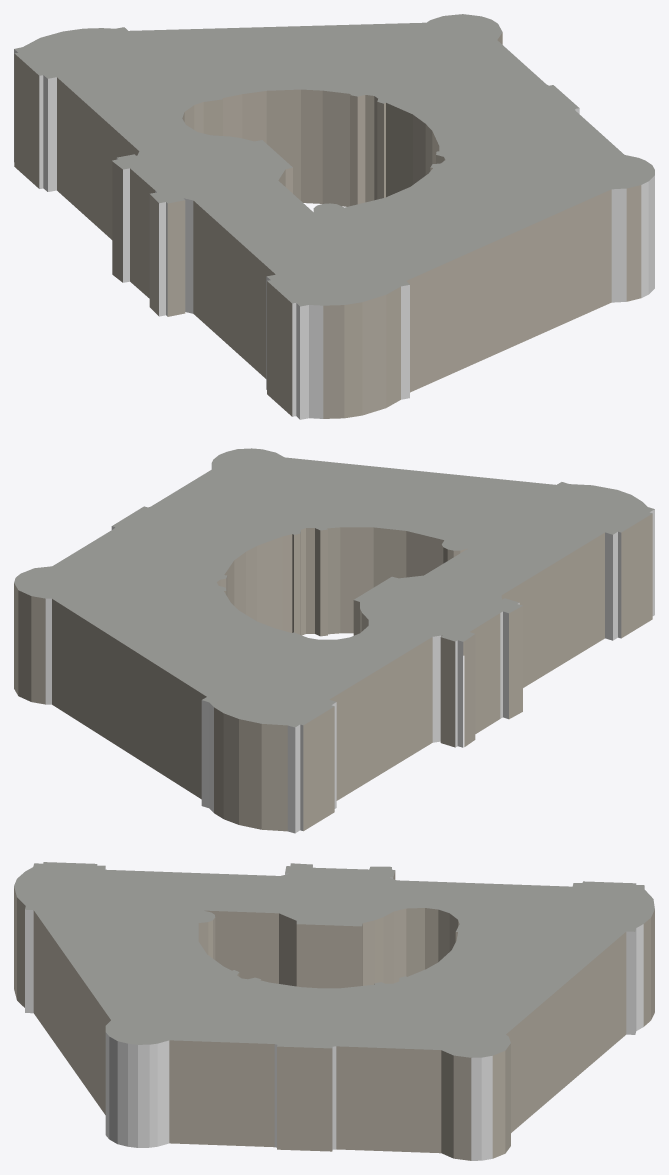
3 renders of one model, top to bottom at view 1: azimuth 30°, elevation 25°; view 2: azimuth 150°, elevation 25°; view 3: azimuth 270°, elevation 25°, orthographic. The views are drawn at different scales.
Parts seen in each view (by area): view 1: tuile; view 2: tuile; view 3: tuile.
Part boxes in pixels (bbox=[...]): tuile: bbox=[14, 14, 654, 419]; tuile: bbox=[14, 448, 654, 833]; tuile: bbox=[14, 862, 654, 1160].
Bounding box in the file's own units: 93.9 × 23.06 × 130.
